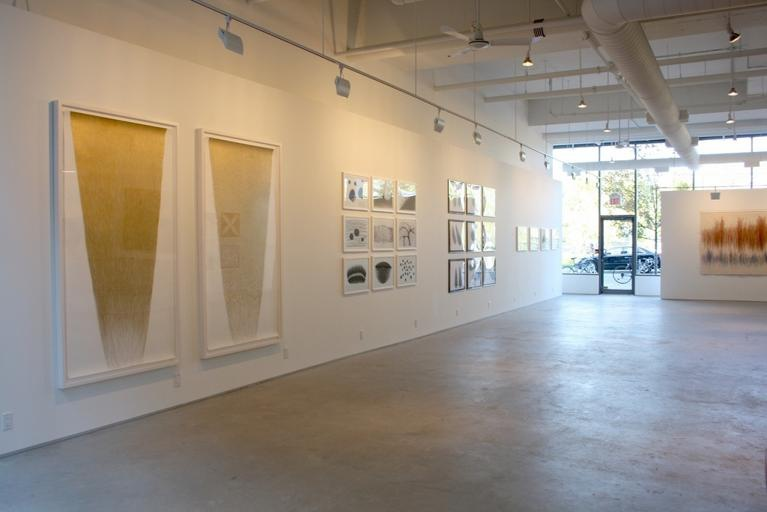non-vehicle: (612, 254, 660, 284), (562, 255, 599, 274)
